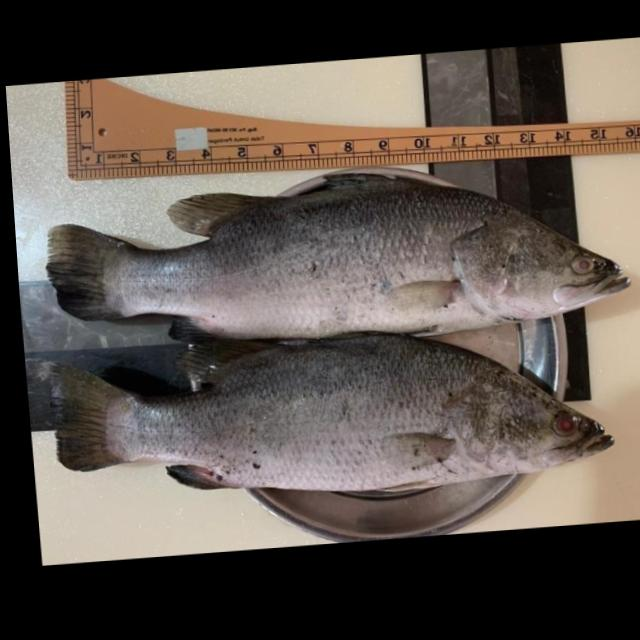Seabass: (38, 149, 631, 363), (45, 314, 617, 517)
